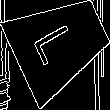L_NE: (33, 18, 87, 70)
